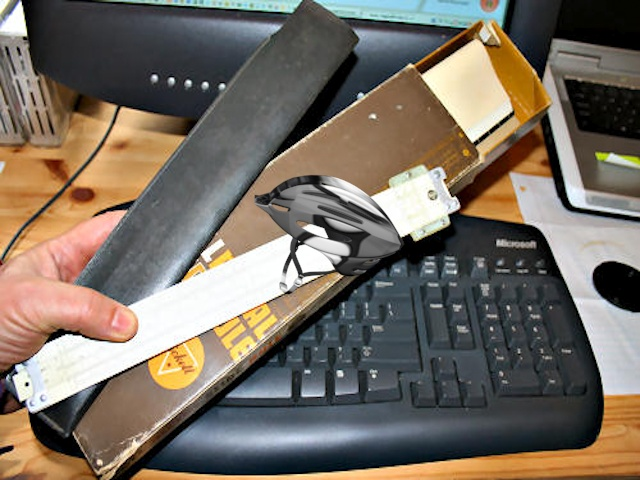bike_helmet: (249, 169, 408, 296)
